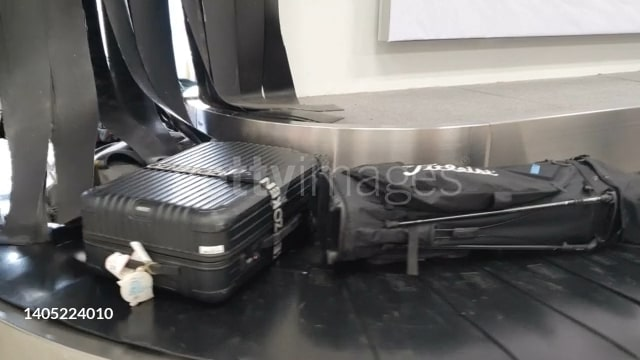baggage: (83, 146, 327, 302), (318, 159, 640, 259)
